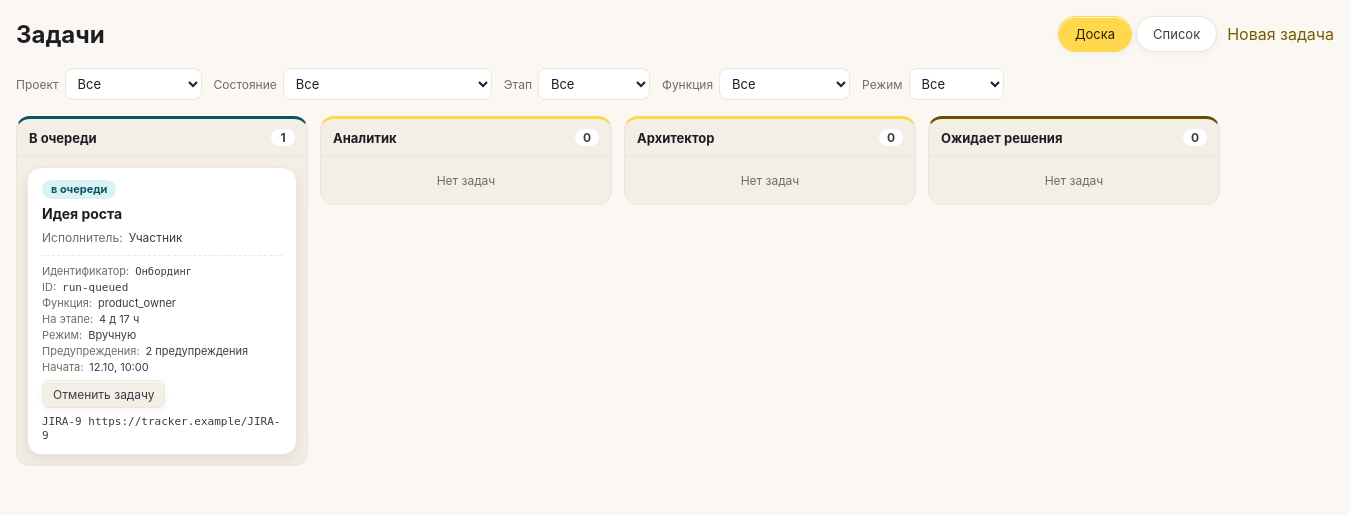
Tasks board › отменяет задачу из карточки и показывает ошибку команды
Expected: the heading "Идея роста" is shown, x1=42 y1=205 x2=122 y2=222
Click the button "Отменить задачу".
click(104, 394)  # box x1=42 y1=380 x2=166 y2=408
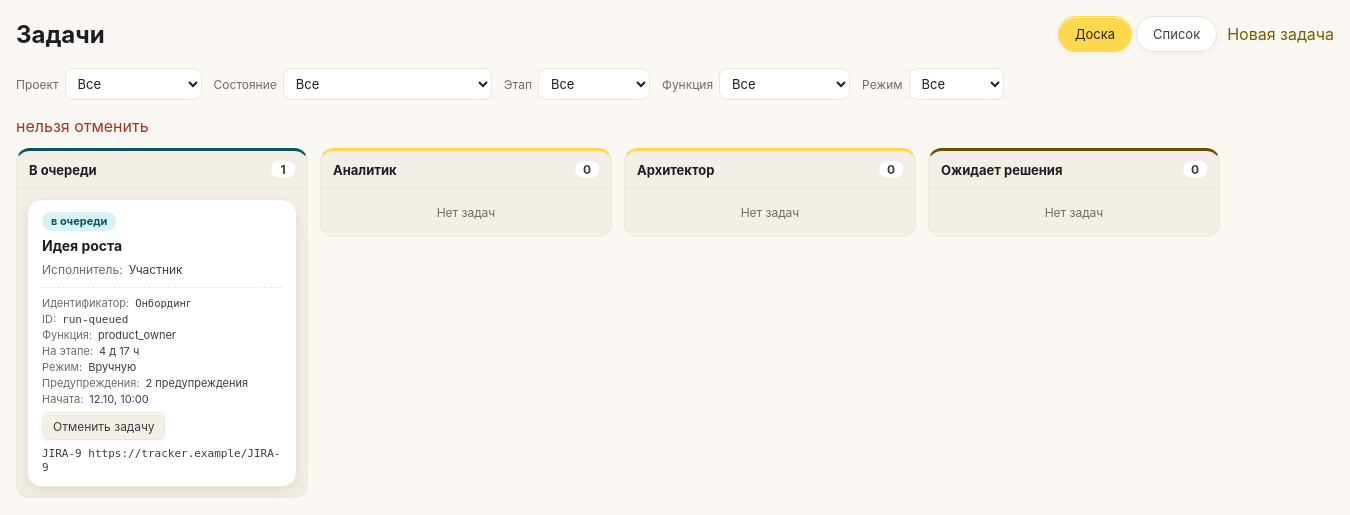
Now the message reads "нельзя отменить", box x1=16 y1=116 x2=149 y2=136
